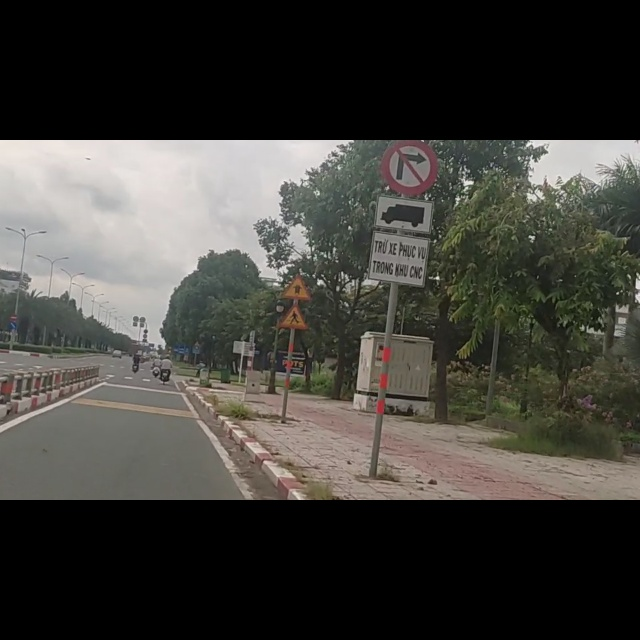bien_nguy_hiem: (367, 96, 432, 257), (381, 2, 439, 102), (281, 238, 313, 286), (277, 292, 309, 337)
